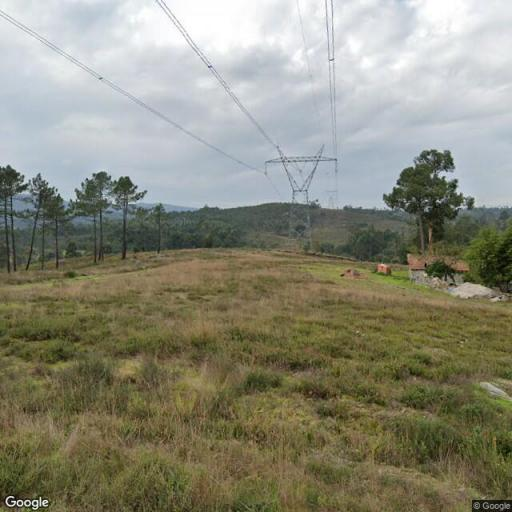wt_6: (261, 144, 338, 256), (322, 185, 342, 213)
